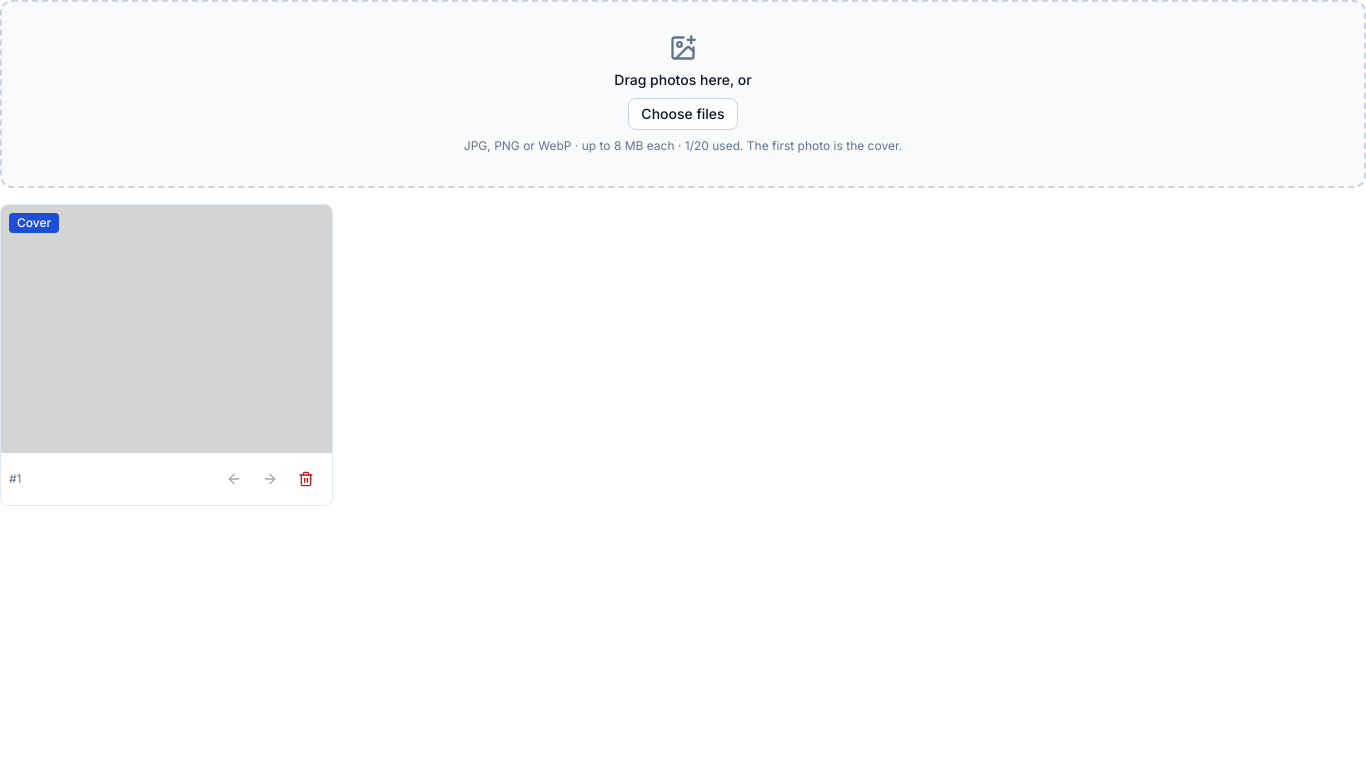
Scenario: MediaManager › confirms before deleting and warns about the last photo of a live listing
Step 1. Click the button named "Delete photo 1" → (306, 479), box x1=288 y1=461 x2=324 y2=497
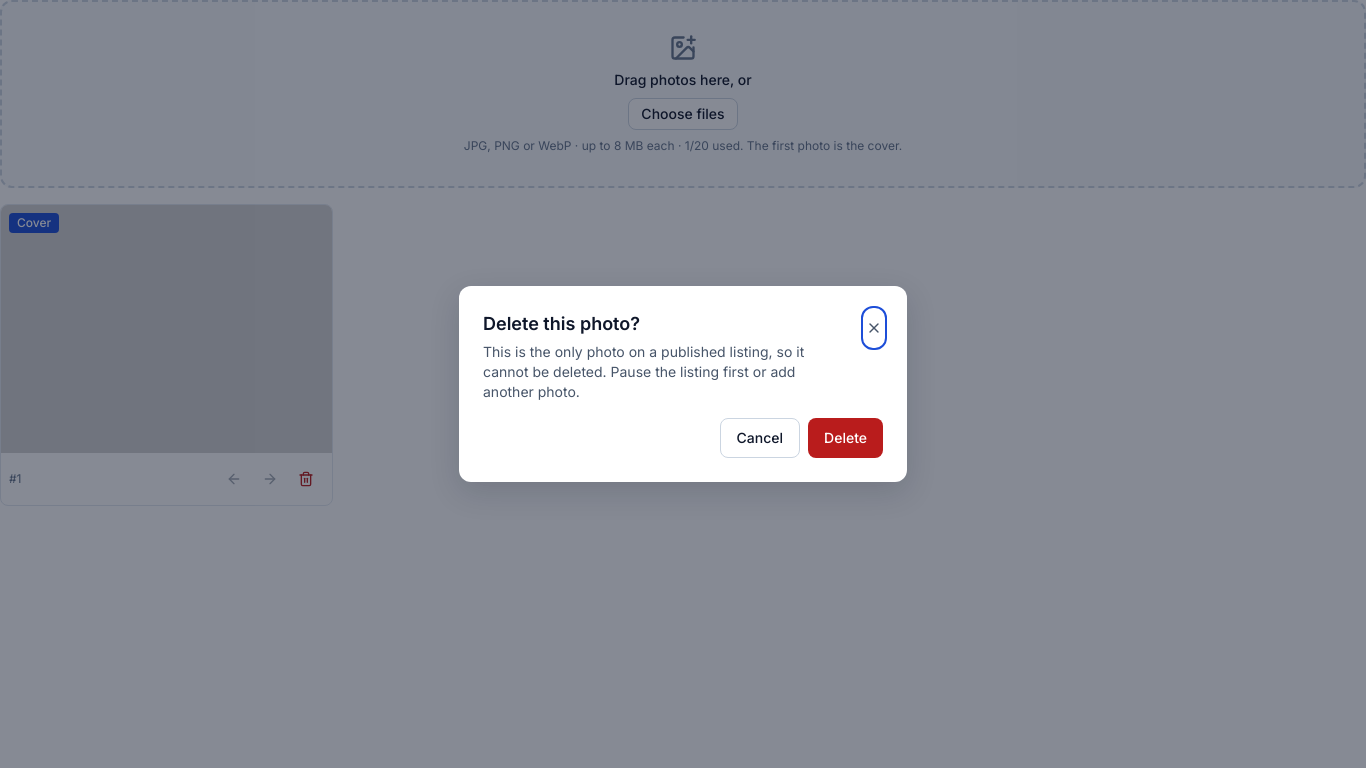
Result: the text "only photo on a published listing" is shown at x1=483 y1=343 x2=804 y2=400
